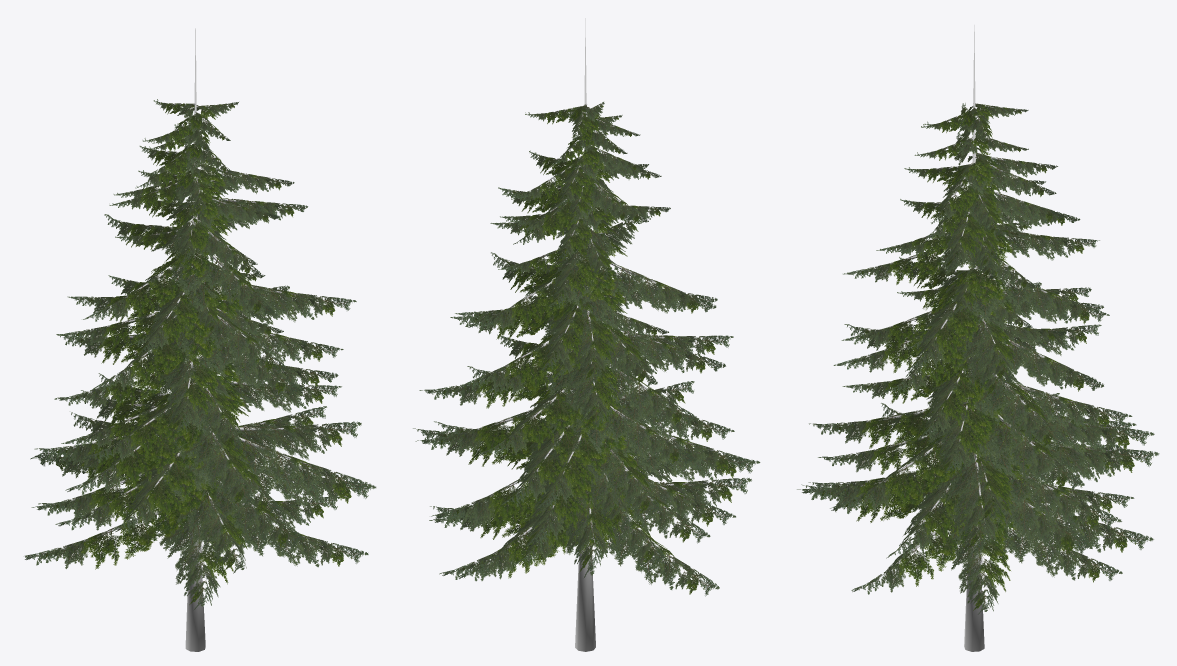
The model's file is Tree2.020.fbx.
3 renders of one model, left to right at view 1: azimuth 30°, elevation 25°; view 2: azimuth 150°, elevation 25°; view 3: azimuth 270°, elevation 25°, orthographic.
Parts seen in each view (by area): view 1: Tree2.020; view 2: Tree2.020; view 3: Tree2.020.
Boxes of the visible parts, x1,y1,x2,y2 form: Tree2.020: (25,28,376,651); Tree2.020: (413,18,760,651); Tree2.020: (797,25,1159,651).
Bounding box in the file's own units: 1.62 × 2.96 × 1.57.
